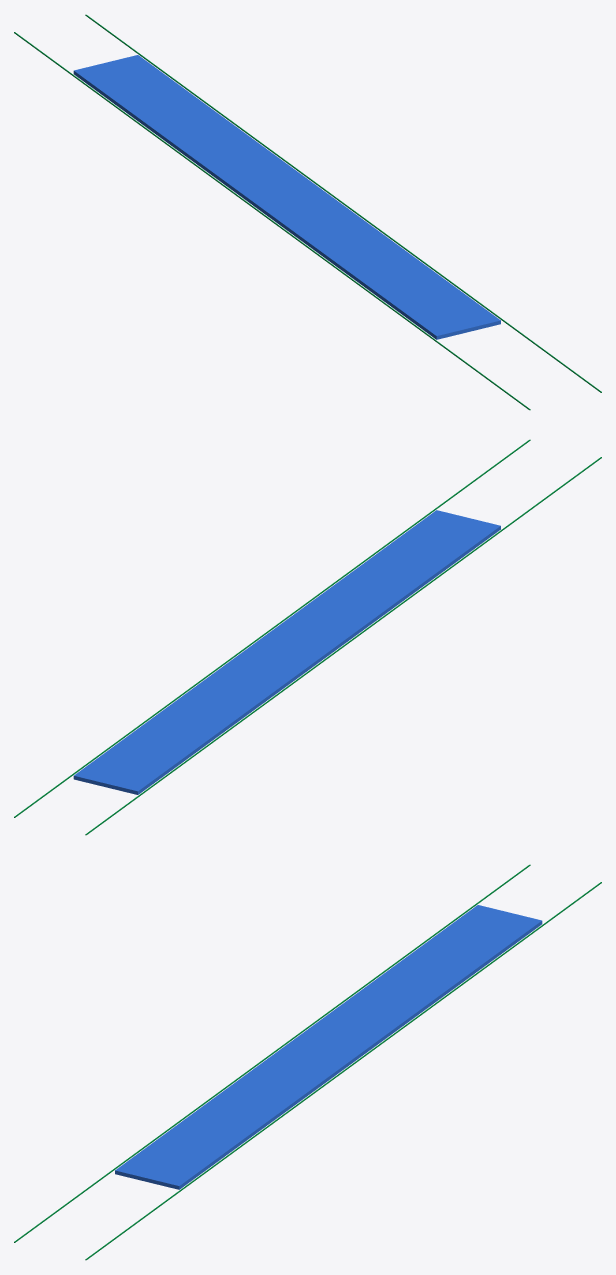
3 views of the same model, one above another, from view 1: azimuth 30°, elevation 25°; view 2: azimuth 150°, elevation 25°; view 3: azimuth 330°, elevation 25° (orthographic).
Parts seen in each view (by area): view 1: 地下鉄ホーム, 地下鉄烏丸線国際会館方面, 地下鉄烏丸線竹田方面; view 2: 地下鉄ホーム, 地下鉄烏丸線国際会館方面, 地下鉄烏丸線竹田方面; view 3: 地下鉄ホーム, 地下鉄烏丸線国際会館方面, 地下鉄烏丸線竹田方面.
Part boxes in pixels (x1,y1,x2,y2): 地下鉄ホーム: (73,55,500,339); 地下鉄烏丸線国際会館方面: (14,32,530,410); 地下鉄烏丸線竹田方面: (85,14,601,392); 地下鉄ホーム: (73,510,500,794); 地下鉄烏丸線国際会館方面: (85,457,601,835); 地下鉄烏丸線竹田方面: (14,439,530,817); 地下鉄ホーム: (115,905,542,1189); 地下鉄烏丸線国際会館方面: (14,864,530,1242); 地下鉄烏丸線竹田方面: (85,882,601,1260).
Size of the model in its own units: 2025 by 100 by 25000.
